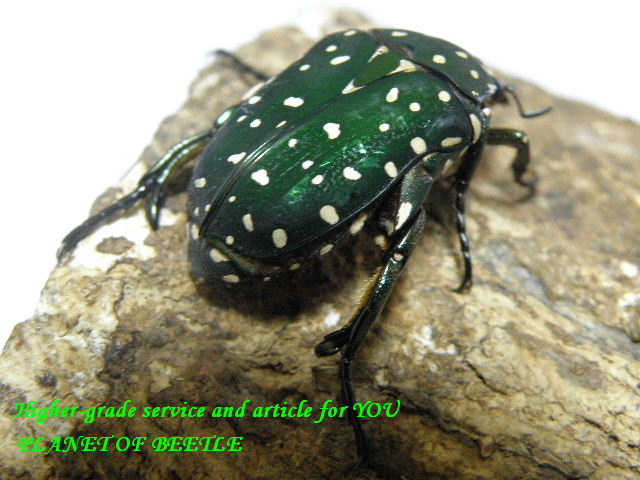Protaetia_niveoguttata: (44, 17, 564, 376)
